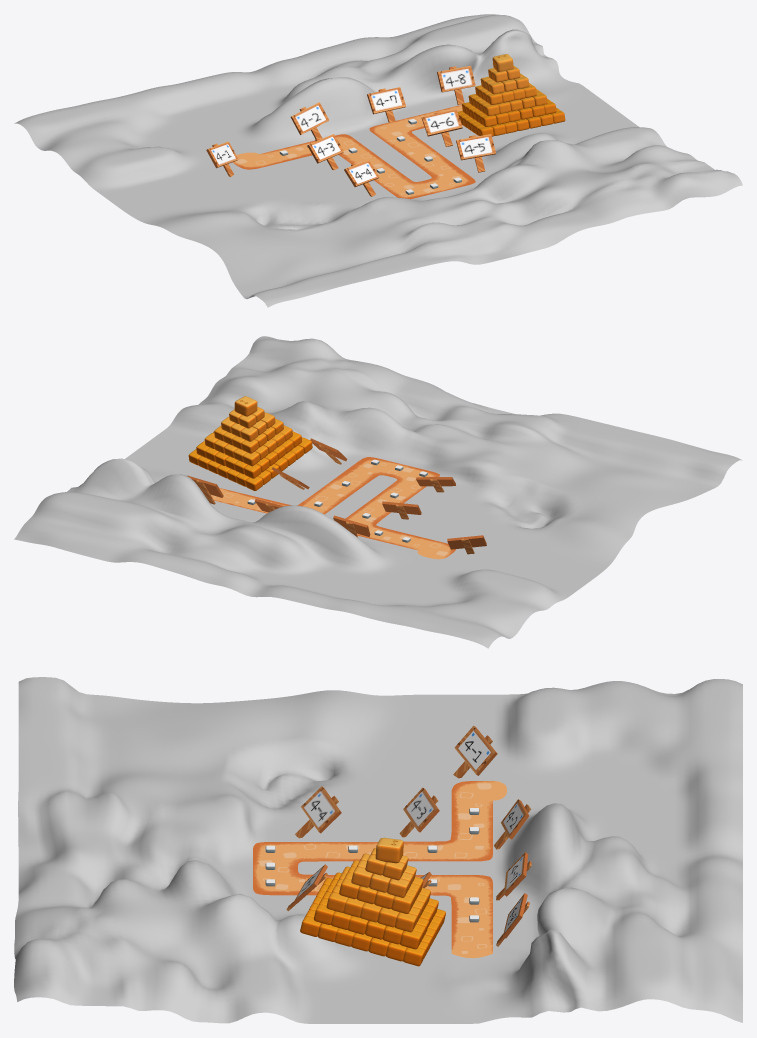
File: stage4_select_ground.fbx
3 views of the same model, one above another, from view 1: azimuth 30°, elevation 25°; view 2: azimuth 150°, elevation 25°; view 3: azimuth 270°, elevation 25° (orthographic). The views are drawn at different scales.
Visible parts, largest first — view 1: graund, road2, signboard01 (×8); view 2: graund, road2; view 3: graund, road2, signboard01 (×5), pyramid001.
Boxes of the visible parts, x1,y1,x2,y2 form: graund: [14, 14, 742, 307]; road2: [232, 105, 475, 199]; signboard01 (×8): [206, 66, 496, 186]; graund: [14, 336, 742, 648]; road2: [211, 457, 455, 559]; graund: [14, 677, 742, 1023]; road2: [253, 781, 506, 958]; signboard01 (×5): [301, 725, 529, 896]; pyramid001: [375, 837, 403, 863].
Bounding box in the file's own units: 22.27 × 3.93 × 20.69.
